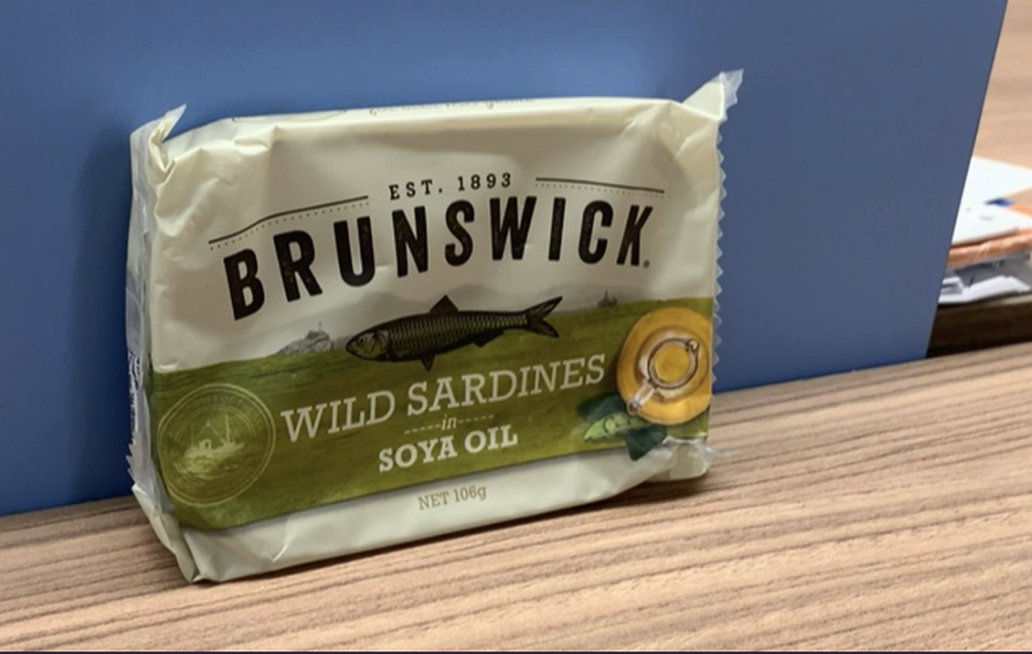sardines_150g: (162, 179, 710, 487)
